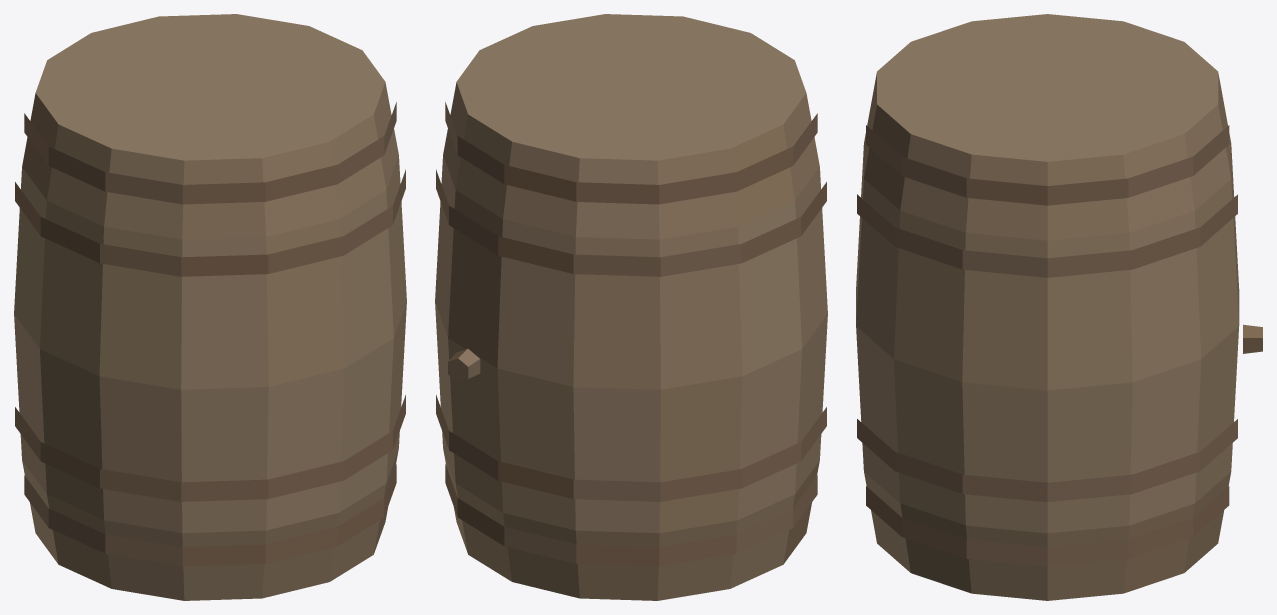
Rendered from fass_eiche.glb.
3 renders of one model, left to right at view 1: azimuth 30°, elevation 25°; view 2: azimuth 150°, elevation 25°; view 3: azimuth 270°, elevation 25°, orthographic.
Parts seen in each view (by area): view 1: fass; view 2: fass; view 3: fass.
Part boxes in pixels (x1,y1,x2,y2): fass: (14, 14, 406, 600); fass: (435, 14, 827, 600); fass: (856, 14, 1262, 600).
Size of the model in its own units: 0.73 by 0.9 by 0.7558.
